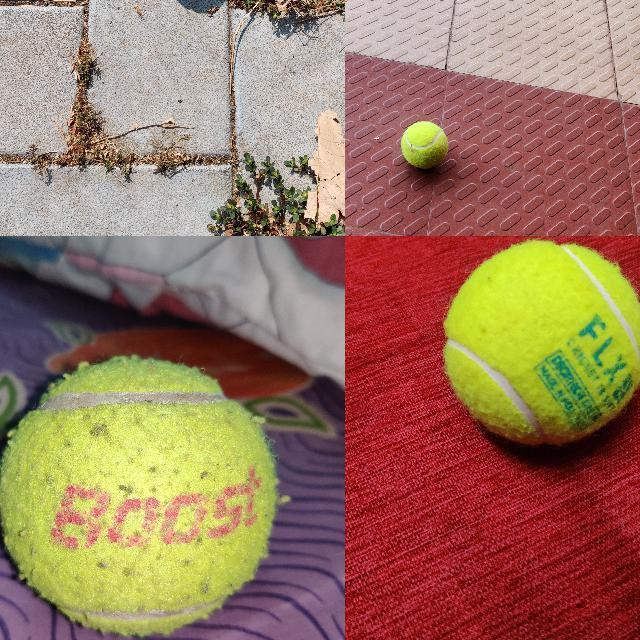tennis-ball: (0, 350, 279, 639), (443, 238, 639, 446), (401, 122, 448, 168)
